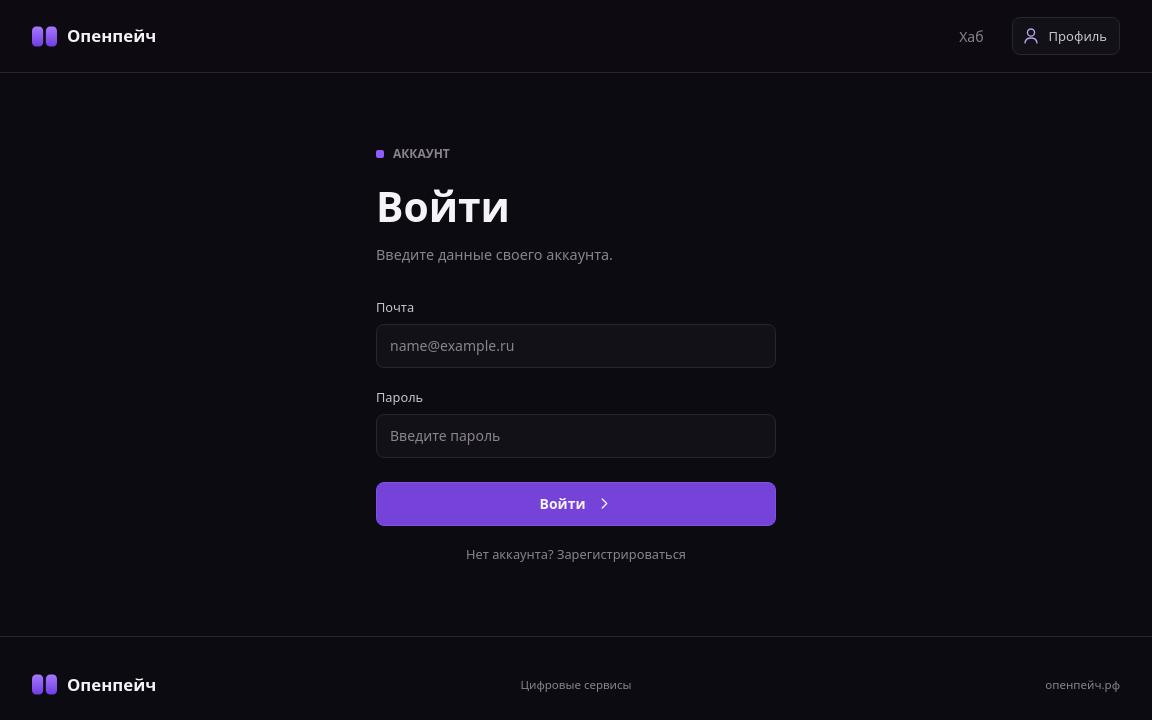
Test: авторизация и маршруты › защищает библиотеку и возвращает в неё после входа
Expected: the heading "Войти" is shown, left=376, top=178, right=510, bottom=234
Step 1. Type "anna@example.ru" into the field labelled "Почта" → {"x": 576, "y": 346}, box left=376, top=324, right=776, bottom=368
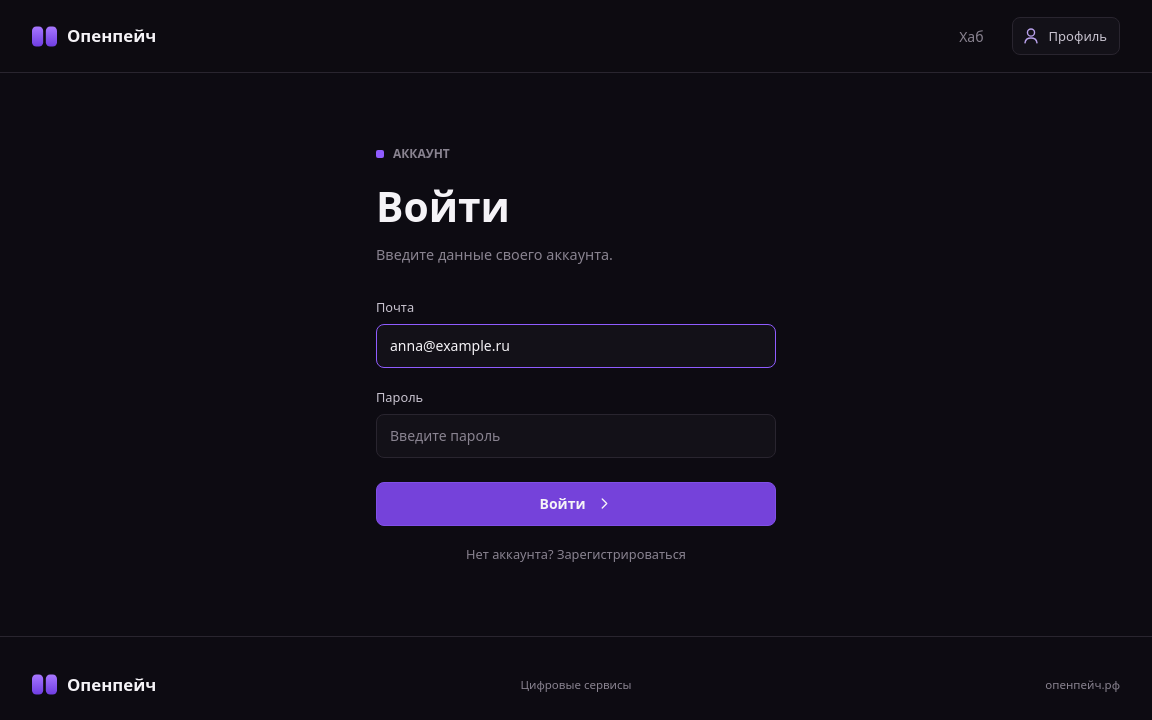
Step 2. Type "secret-password" into the password field labelled "Пароль" → {"x": 576, "y": 436}, box left=376, top=414, right=776, bottom=458
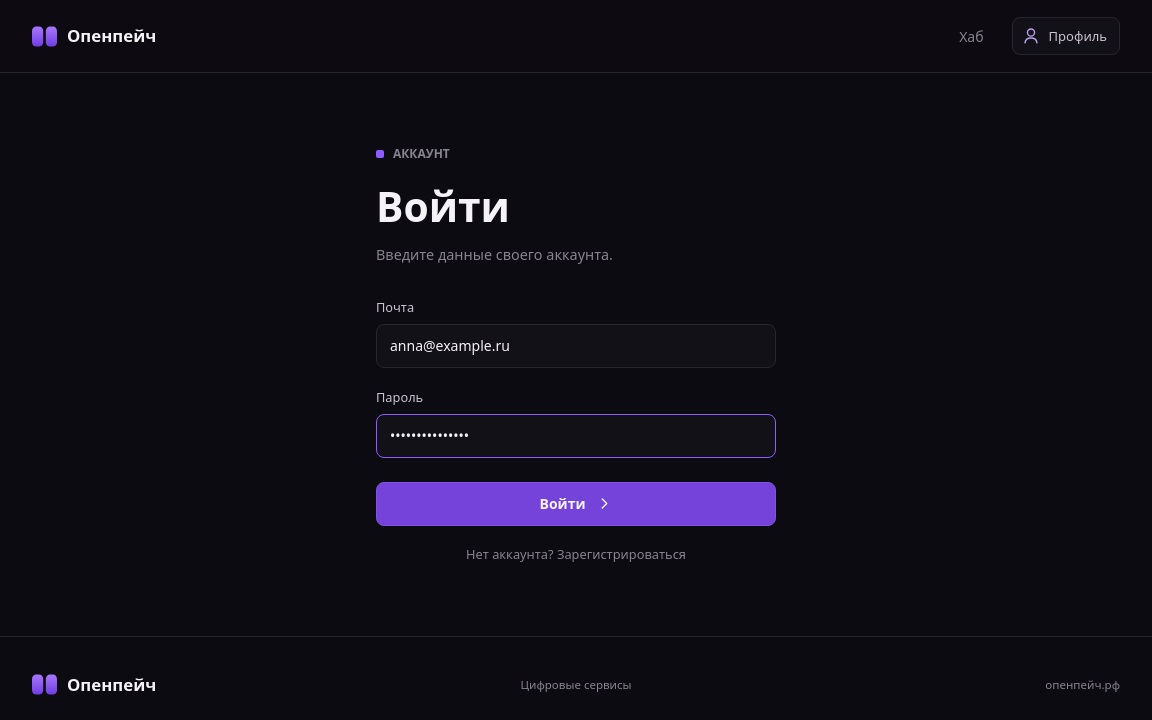
Step 3. Click the button "Войти" → {"x": 576, "y": 504}, box left=376, top=482, right=776, bottom=526
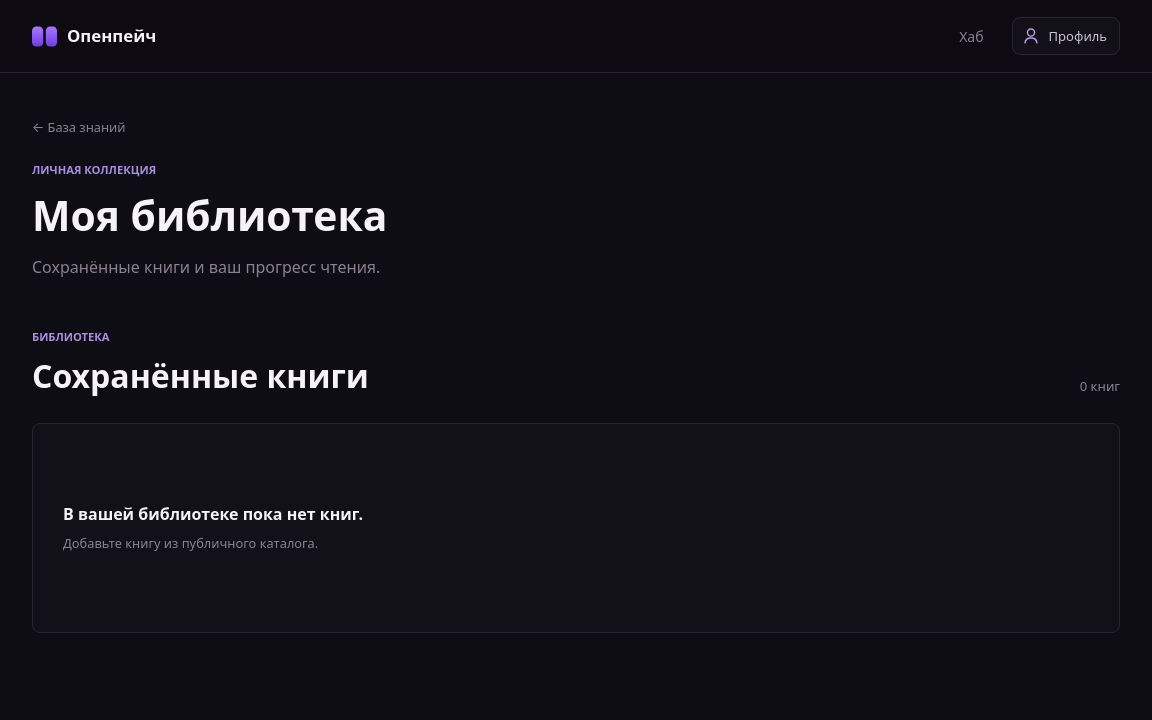
Expected: the heading "Моя библиотека" is shown, left=32, top=187, right=387, bottom=243
Expected: the heading "В вашей библиотеке пока нет книг." is shown, left=63, top=502, right=363, bottom=524
